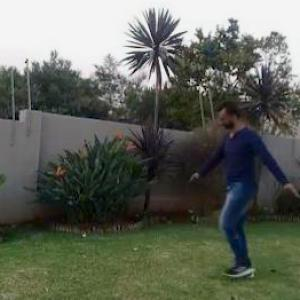land: (180, 84, 299, 296)
